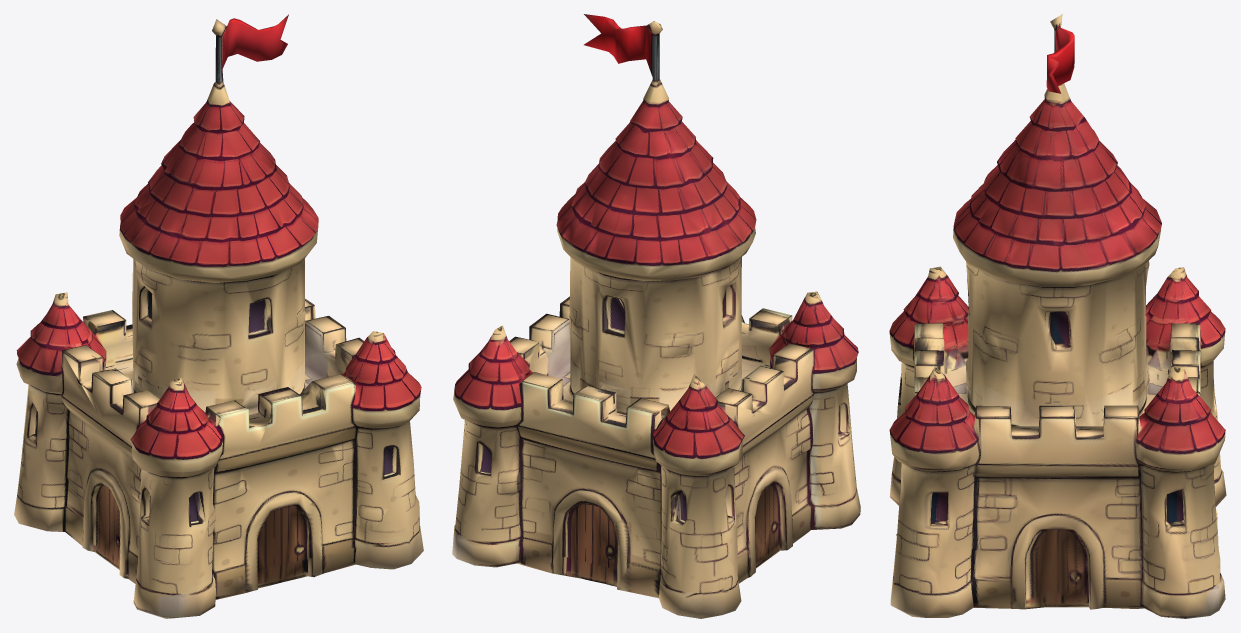
Rendered from Castle1.fbx.
The picture shows the model from 3 angles, left to right: view 1: azimuth 30°, elevation 25°; view 2: azimuth 150°, elevation 25°; view 3: azimuth 270°, elevation 25°; orthographic projection. The views are drawn at different scales.
Parts seen in each view (by area): view 1: Mesh_0; view 2: Mesh_0; view 3: Mesh_0.
Boxes of the visible parts, bbox=[...] form: Mesh_0: bbox=[14, 14, 423, 618]; Mesh_0: bbox=[452, 14, 860, 618]; Mesh_0: bbox=[889, 14, 1226, 618].
Bounding box in the file's own units: 109 × 192 × 109.
1 material, 1 textured.
